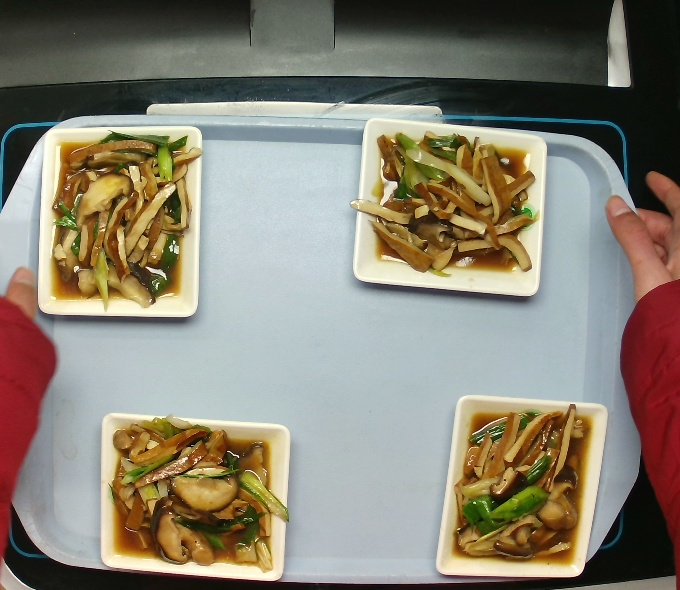wcq-XiangGuChaoXiangGan: (92, 409, 293, 578), (47, 125, 213, 324), (347, 123, 542, 281), (443, 396, 591, 575)
